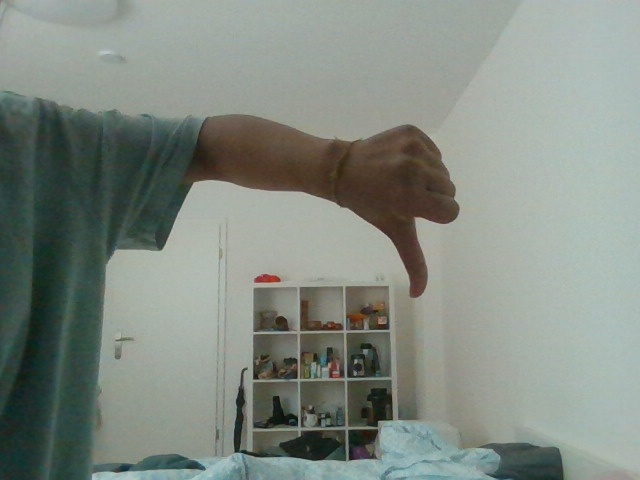Thumbs down: (341, 116, 482, 306)
